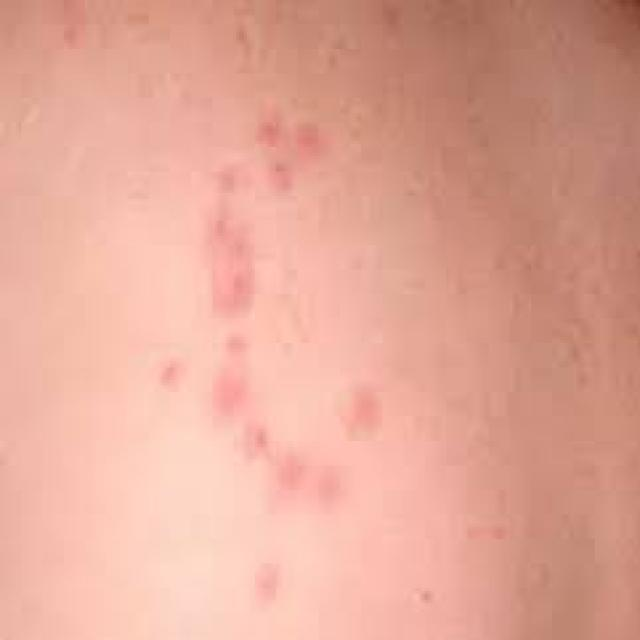kan emici bocekler: (203, 172, 261, 321), (262, 452, 353, 519), (212, 370, 249, 421), (346, 390, 386, 437), (257, 563, 291, 604), (292, 121, 329, 157), (245, 423, 273, 457), (268, 163, 300, 190), (257, 114, 280, 146), (230, 333, 255, 361), (158, 363, 181, 392)
